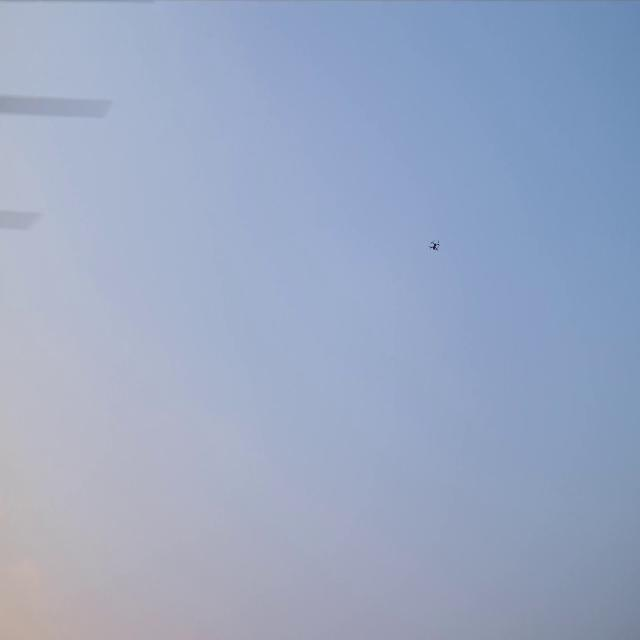UAV: (428, 238, 440, 253)
